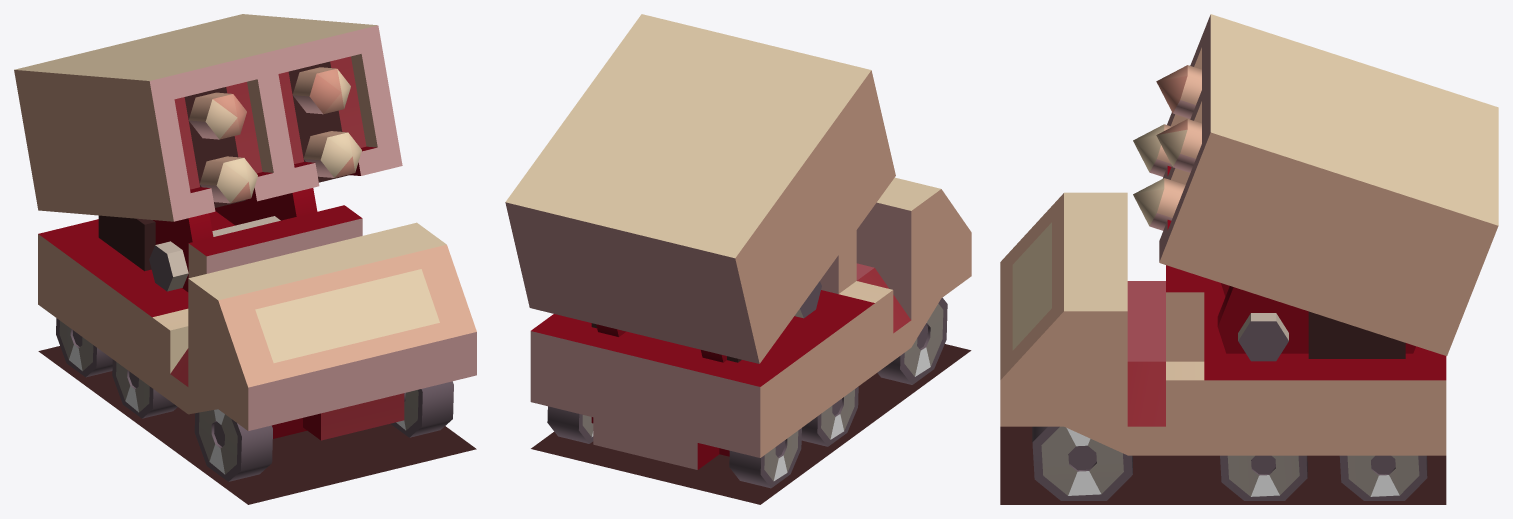
The model's file is RocketMesh.WhiteNova.glb.
3 renders of one model, left to right at view 1: azimuth 30°, elevation 25°; view 2: azimuth 150°, elevation 25°; view 3: azimuth 270°, elevation 25°, orthographic. The views are drawn at different scales.
Visible parts, largest first — view 1: RocketMesh.WhiteNova; view 2: RocketMesh.WhiteNova; view 3: RocketMesh.WhiteNova.
Boxes of the visible parts, left/top/right/bottom form: RocketMesh.WhiteNova: left=14, top=14, right=476, bottom=504; RocketMesh.WhiteNova: left=505, top=14, right=971, bottom=504; RocketMesh.WhiteNova: left=1000, top=14, right=1498, bottom=504.
Size of the model in its own units: 1.1 by 1.63 by 1.96.
Materials: 1 (1 with a texture image).
